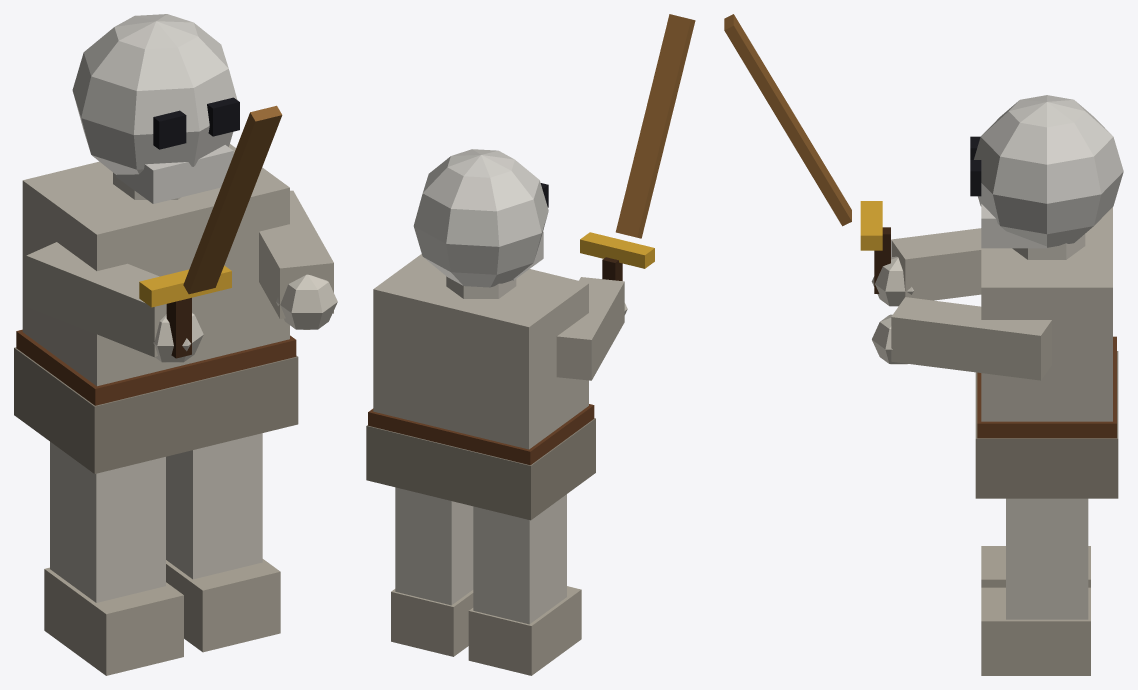
Rendered from e_skeleton.fbx.
The picture shows the model from 3 angles, left to right: view 1: azimuth 30°, elevation 25°; view 2: azimuth 150°, elevation 25°; view 3: azimuth 270°, elevation 25°; orthographic projection. The views are drawn at different scales.
Visible parts, largest first — view 1: e_skeleton_Body, e_skeleton_LegR, e_skeleton_LegL; view 2: e_skeleton_Body, e_skeleton_LegR, e_skeleton_LegL; view 3: e_skeleton_Body, e_skeleton_LegL, e_skeleton_LegR.
Boxes of the visible parts, x1,y1,x2,y2 form: e_skeleton_Body: (14,14,337,473); e_skeleton_LegR: (44,442,183,675); e_skeleton_LegL: (166,433,280,652); e_skeleton_Body: (366,14,695,520); e_skeleton_LegR: (468,494,581,675); e_skeleton_LegL: (391,487,473,656); e_skeleton_Body: (724,14,1123,498); e_skeleton_LegL: (981,498,1090,675); e_skeleton_LegR: (981,546,1090,587).
Size of the model in its own units: 0.4977 by 1.18 by 0.7291.
